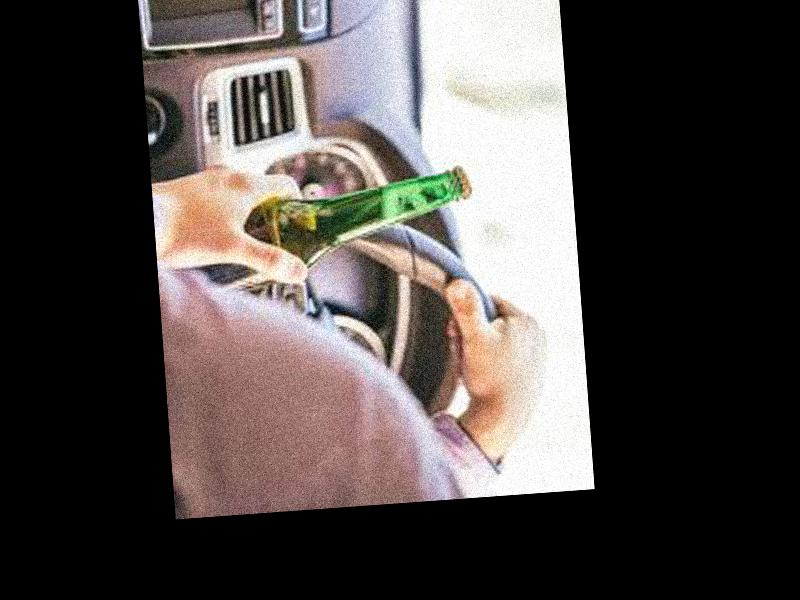Beer: (183, 164, 479, 294)
